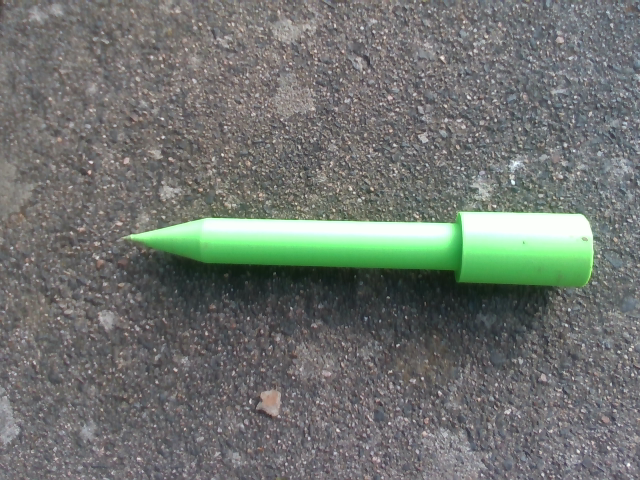Probe: (112, 189, 605, 305)
